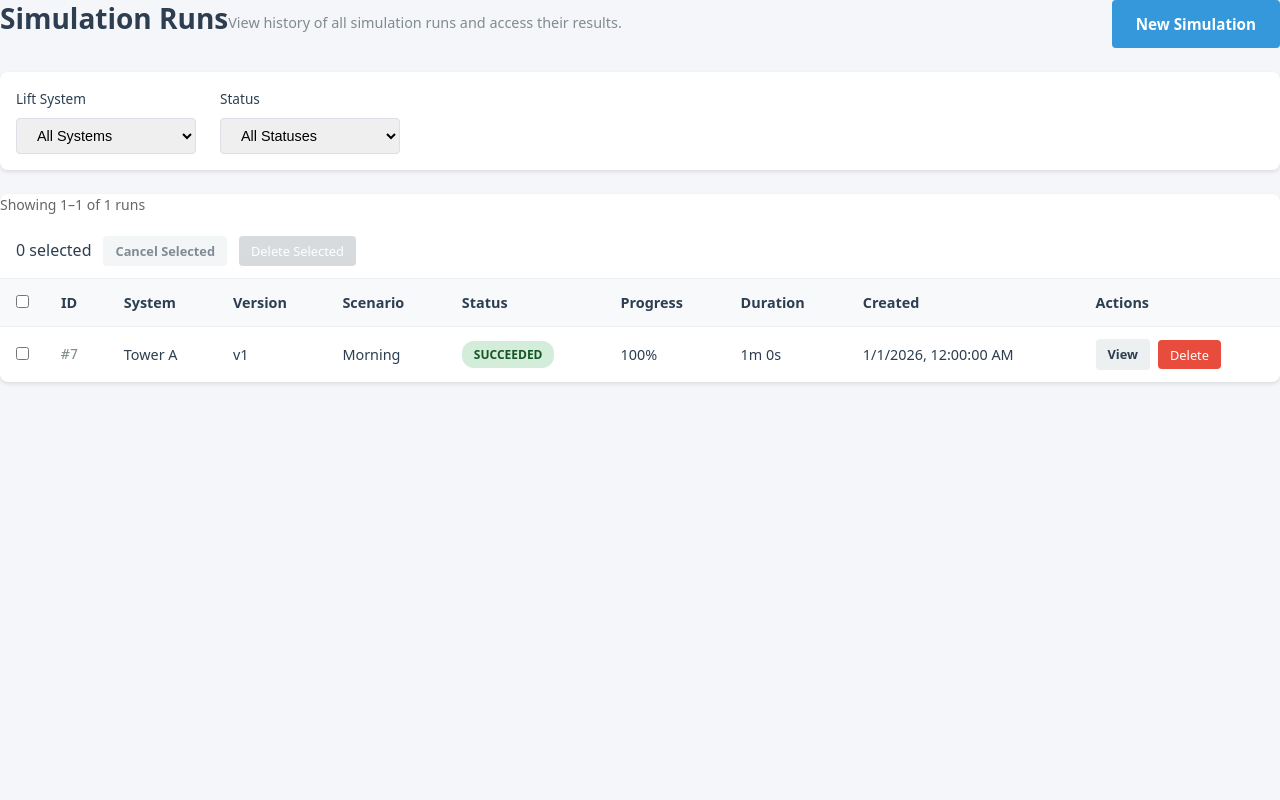
Scenario: SimulationRuns delete action › surfaces an error when deletion fails
Expected: the text "#7" is shown, [45,326,108,382]
Step 1. Click the button "Delete" → (1189, 354), box [1158,340,1221,369]
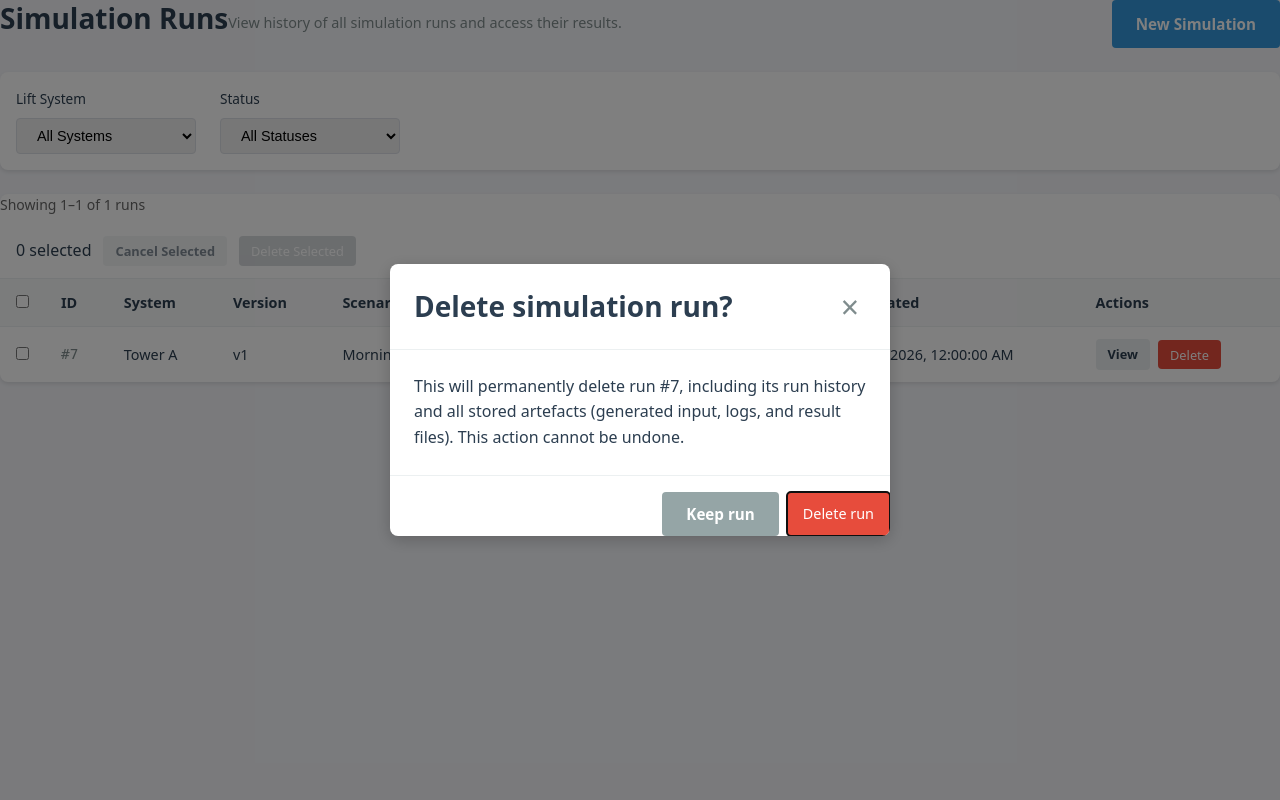
Step 2. Click the button "Delete run" → (838, 514), box [787,492,890,536]
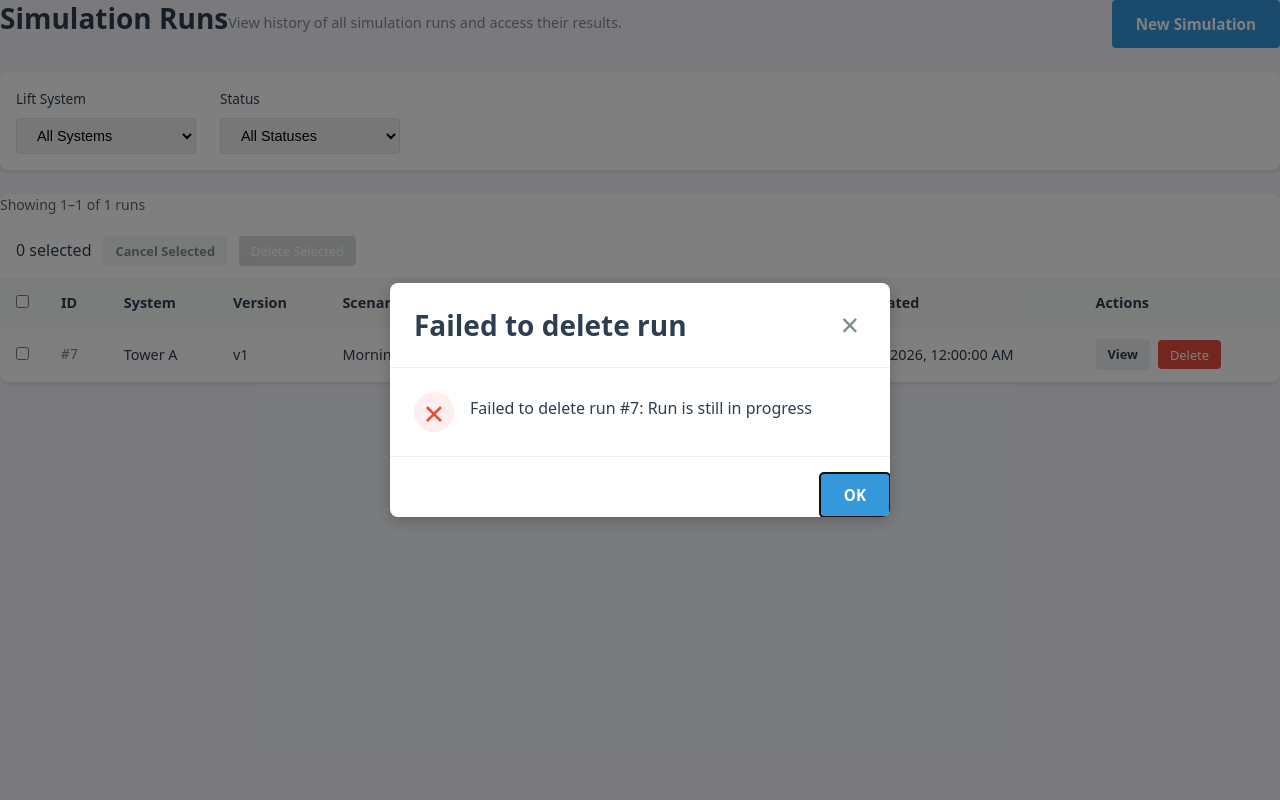
Expected: the text "Failed to delete run #7: Run is still in progress" is shown, [470,392,866,422]
